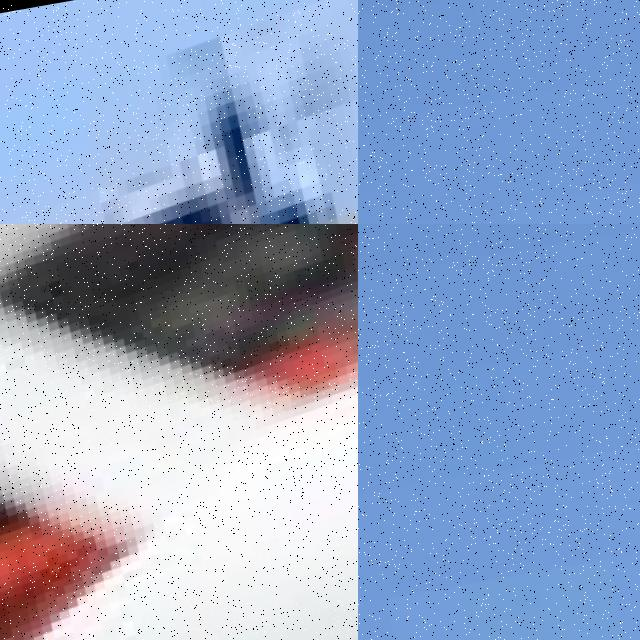0: (0, 0, 358, 224)
drone: (0, 224, 358, 640)
